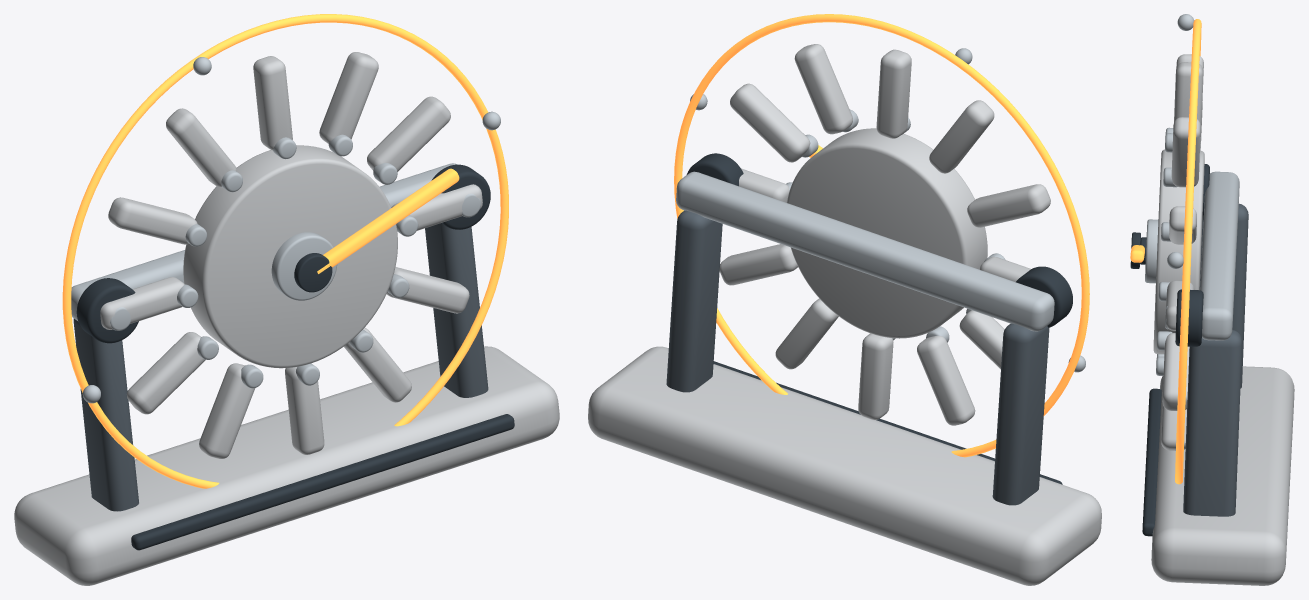
The model's file is bronzed-solar-dial.glb.
The picture shows the model from 3 angles, left to right: view 1: azimuth 30°, elevation 25°; view 2: azimuth 150°, elevation 25°; view 3: azimuth 270°, elevation 25°; orthographic projection. The views are drawn at different scales.
Visible parts, largest first — view 1: SolarPlinth, SolarCeramicCore, SolarCalibrationOrbit, SolarSupport_L, SolarPlinthInset, SolarSupport_R, SolarAxle, SolarRay_03, SolarRay_08, SolarRay_02, SolarRay_09, SolarRay_04 (+12 smaller); view 2: SolarPlinth, SolarCeramicCore, SolarAxle, SolarCalibrationOrbit, SolarSupport_L, SolarSupport_R, SolarRay_02, SolarRay_03, SolarRay_09, SolarRay_04, SolarRay_10, SolarRay_06 (+9 smaller); view 3: SolarPlinth, SolarSupport_R, SolarAxle, SolarCalibrationOrbit, SolarCeramicCore, SolarPlinthInset, SolarSupport_L, SolarRay_03, SolarRay_12, SolarRay_04, SolarBearing_R, SolarHub (+7 smaller).
Boxes of the visible parts, x1,y1,x2,y2 form: SolarPlinth: (14, 346, 559, 585); SolarCeramicCore: (183, 145, 397, 368); SolarCalibrationOrbit: (62, 14, 508, 488); SolarSupport_L: (73, 318, 138, 511); SolarPlinthInset: (131, 414, 514, 550); SolarSupport_R: (425, 223, 488, 397); SolarAxle: (71, 163, 457, 320); SolarRay_03: (319, 52, 378, 143); SolarRay_08: (127, 332, 205, 414); SolarRay_02: (367, 96, 450, 171); SolarRay_09: (199, 363, 255, 458); SolarRay_04: (253, 56, 292, 150); SolarPlinth: (588, 346, 1101, 585); SolarCeramicCore: (787, 128, 987, 338); SolarAxle: (676, 171, 1054, 331); SolarCalibrationOrbit: (674, 14, 1089, 457); SolarSupport_L: (992, 323, 1049, 505); SolarSupport_R: (666, 210, 722, 392); SolarRay_02: (730, 83, 810, 162); SolarRay_03: (794, 44, 852, 134); SolarRay_09: (917, 336, 975, 425); SolarRay_04: (876, 49, 911, 138); SolarRay_10: (858, 333, 893, 419); SolarRay_06: (967, 184, 1050, 227); SolarPlinth: (1151, 366, 1294, 585); SolarSupport_R: (1183, 330, 1242, 516); SolarAxle: (1200, 171, 1239, 340); SolarCalibrationOrbit: (1175, 19, 1201, 484); SolarCeramicCore: (1153, 149, 1204, 354); SolarPlinthInset: (1142, 388, 1161, 536); SolarSupport_L: (1199, 203, 1248, 388); SolarRay_03: (1171, 117, 1200, 187); SolarRay_12: (1162, 333, 1189, 410); SolarRay_04: (1174, 62, 1203, 141); SolarBearing_R: (1175, 289, 1203, 346); SolarHub: (1145, 219, 1158, 283).
Size of the model in its own units: 4.56 by 4.56 by 1.44.
